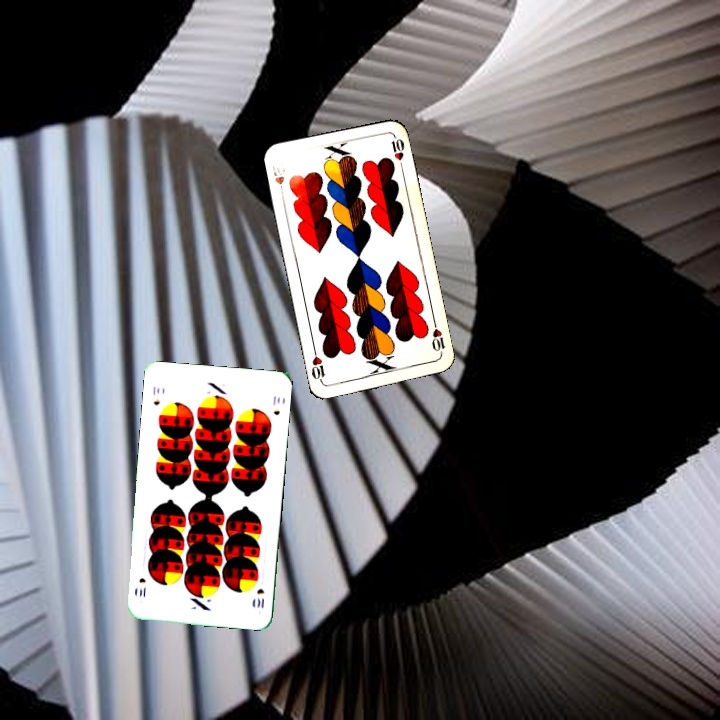H10: (428, 318, 448, 358), (268, 161, 288, 198)
S10: (253, 584, 266, 610), (149, 382, 162, 408)
